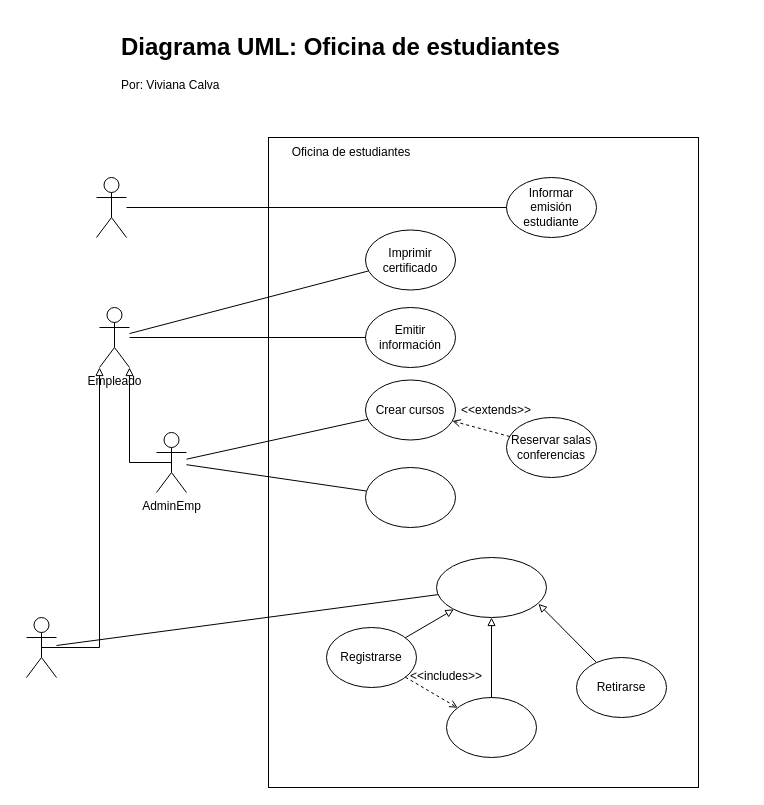
Some shapes in this 764 by 805 pixel diagram are drawn without their labels. The shapes that lost their labels are listed below. From the top down, each one's centre as x and y in pixels, then its label:
the point at 111,207: Profesor
the point at 410,497: Emitir certificado
the point at 491,587: {{abstract}} Administrar datos estudiante
the point at 41,647: ServEmp
the point at 491,727: Matricularse
